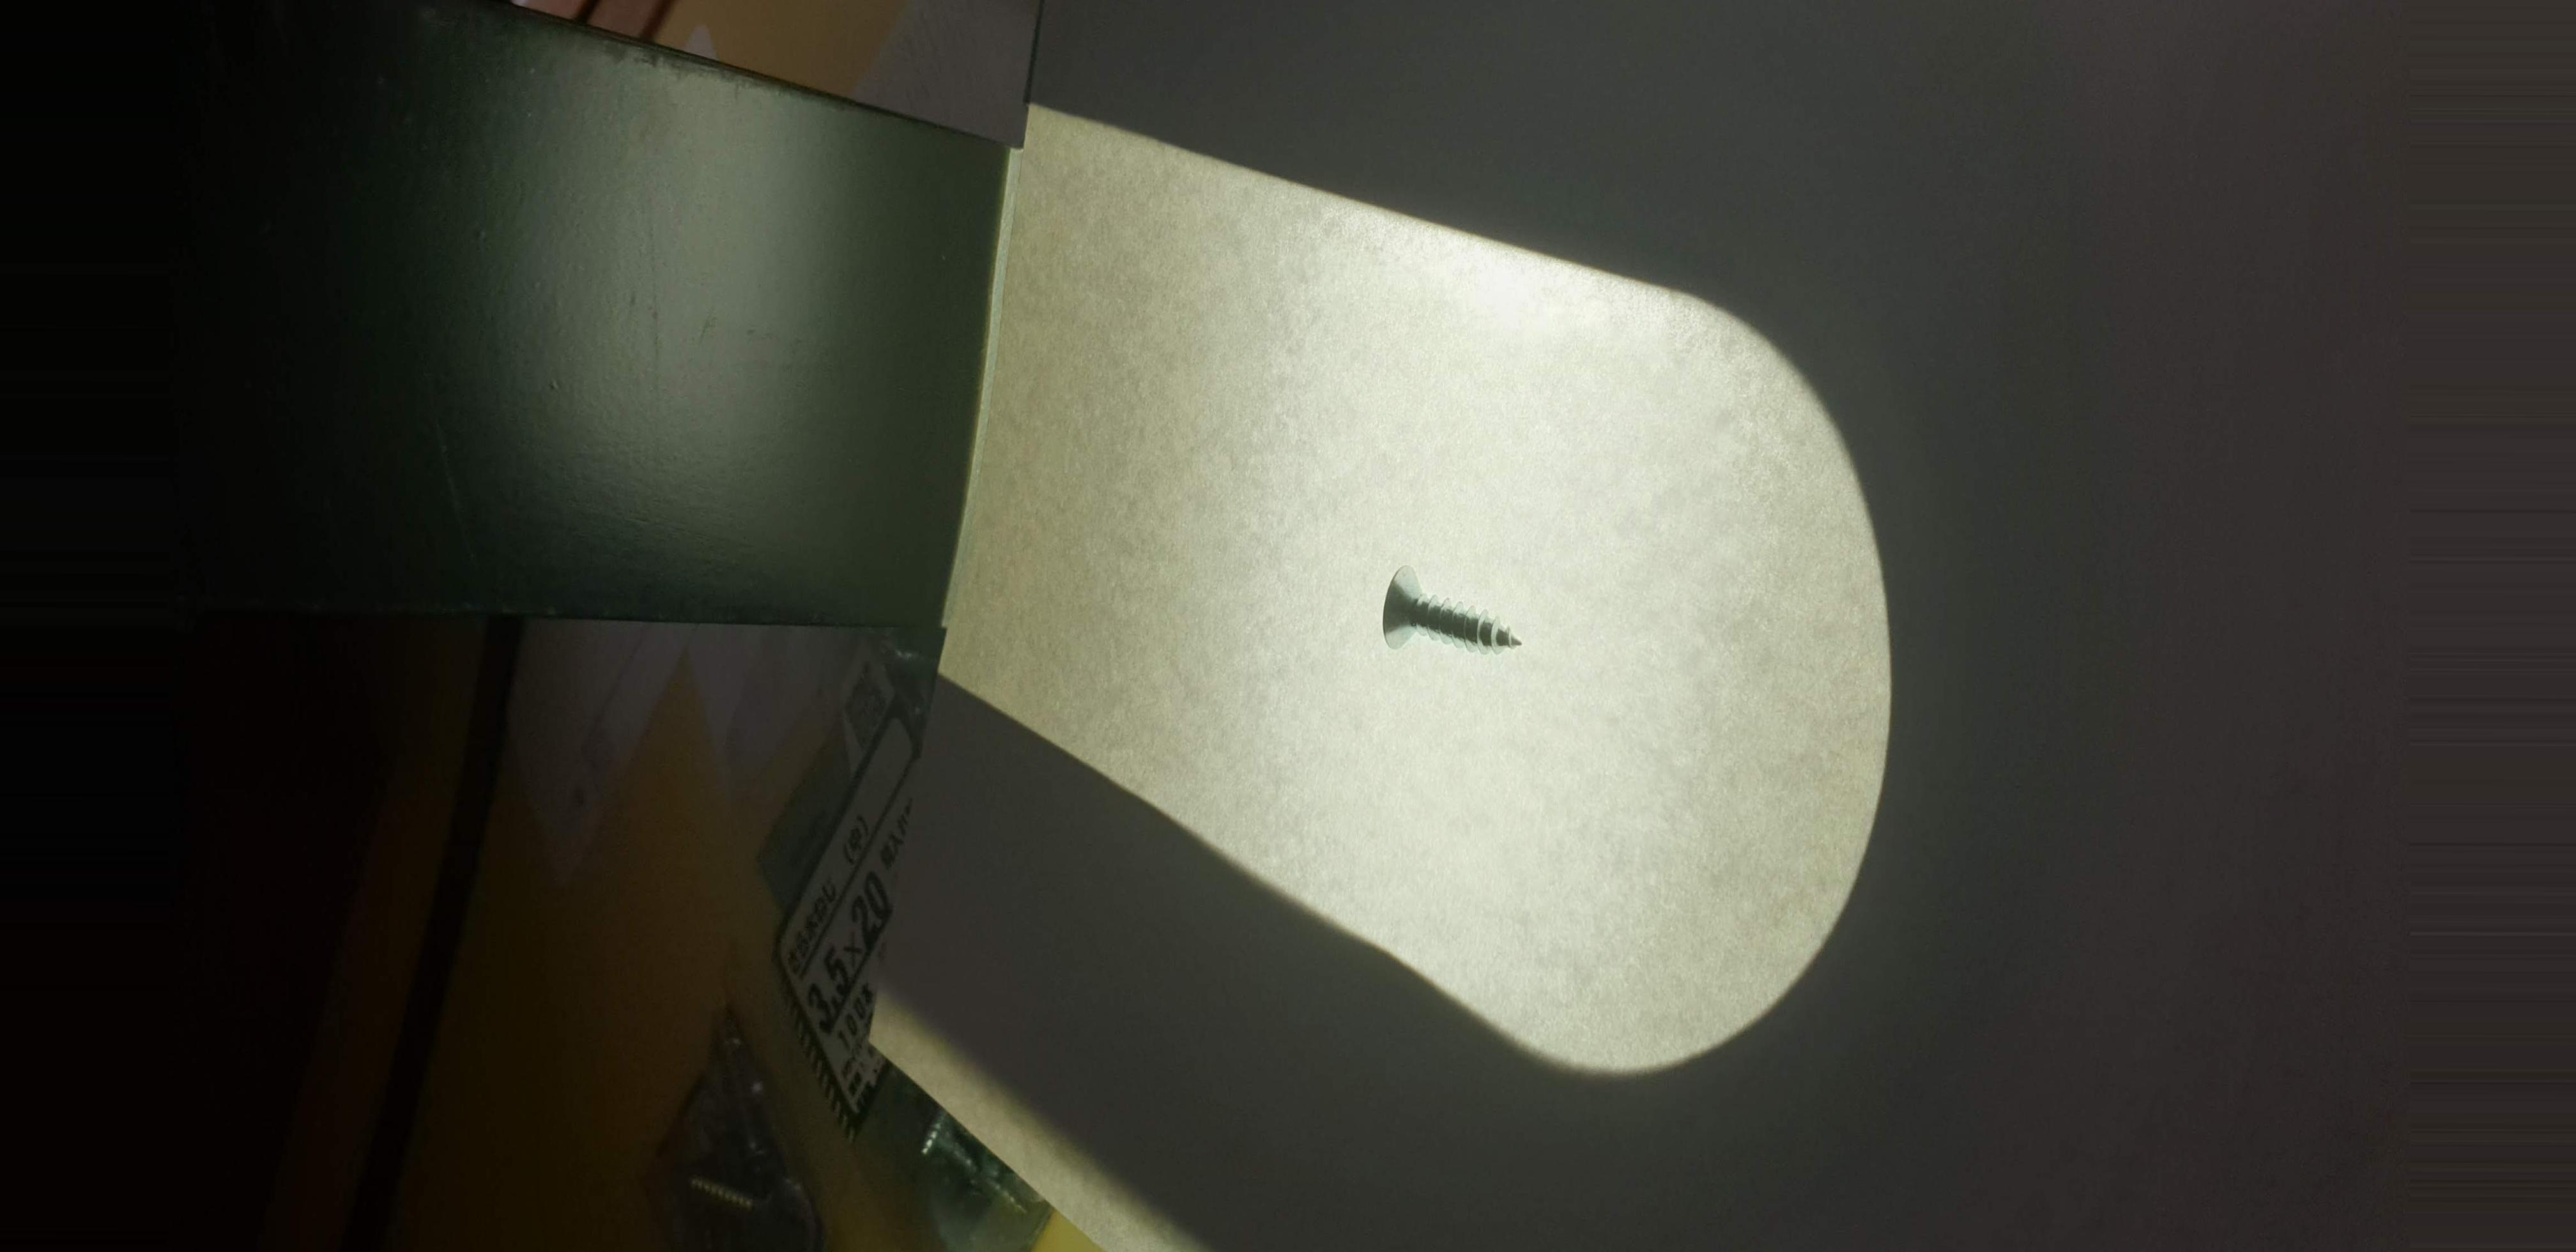S003: (1334, 531, 1584, 692)
